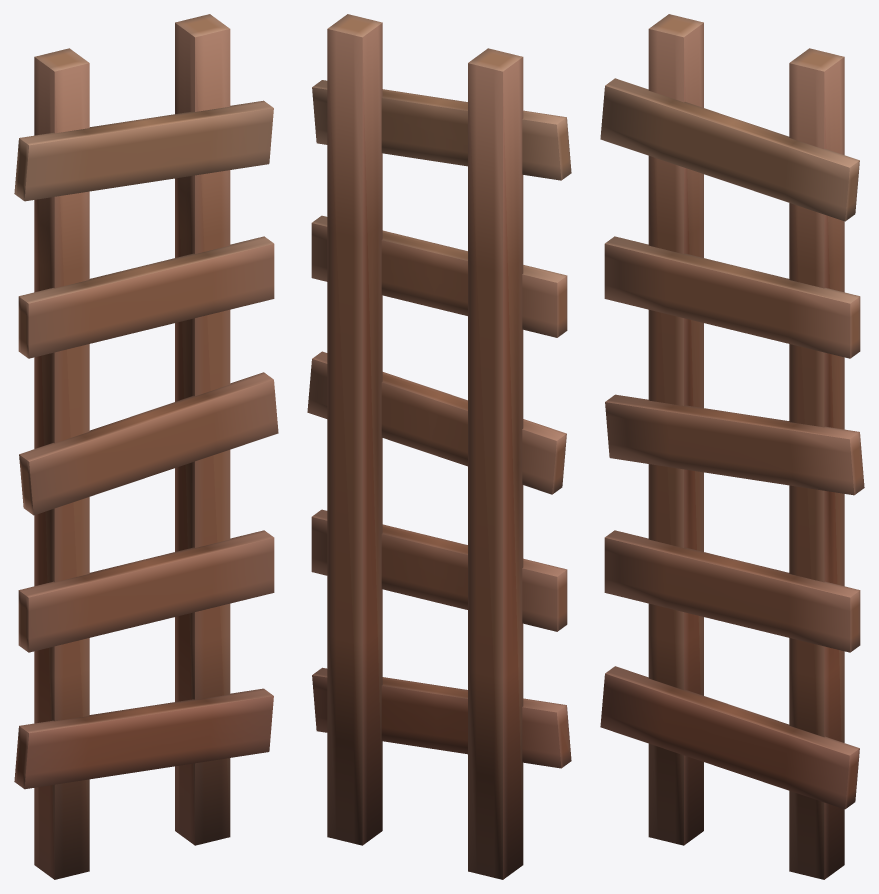
Rendered from prop_ladder.glb.
3 renders of one model, left to right at view 1: azimuth 30°, elevation 25°; view 2: azimuth 150°, elevation 25°; view 3: azimuth 330°, elevation 25°, orthographic.
Parts seen in each view (by area): view 1: refined; view 2: refined; view 3: refined.
Boxes of the visible parts, bbox=[...] form: refined: bbox=[14, 14, 278, 879]; refined: bbox=[307, 14, 571, 879]; refined: bbox=[600, 14, 864, 879].
Size of the model in its own units: 0.2532 by 0.77 by 0.0507.
